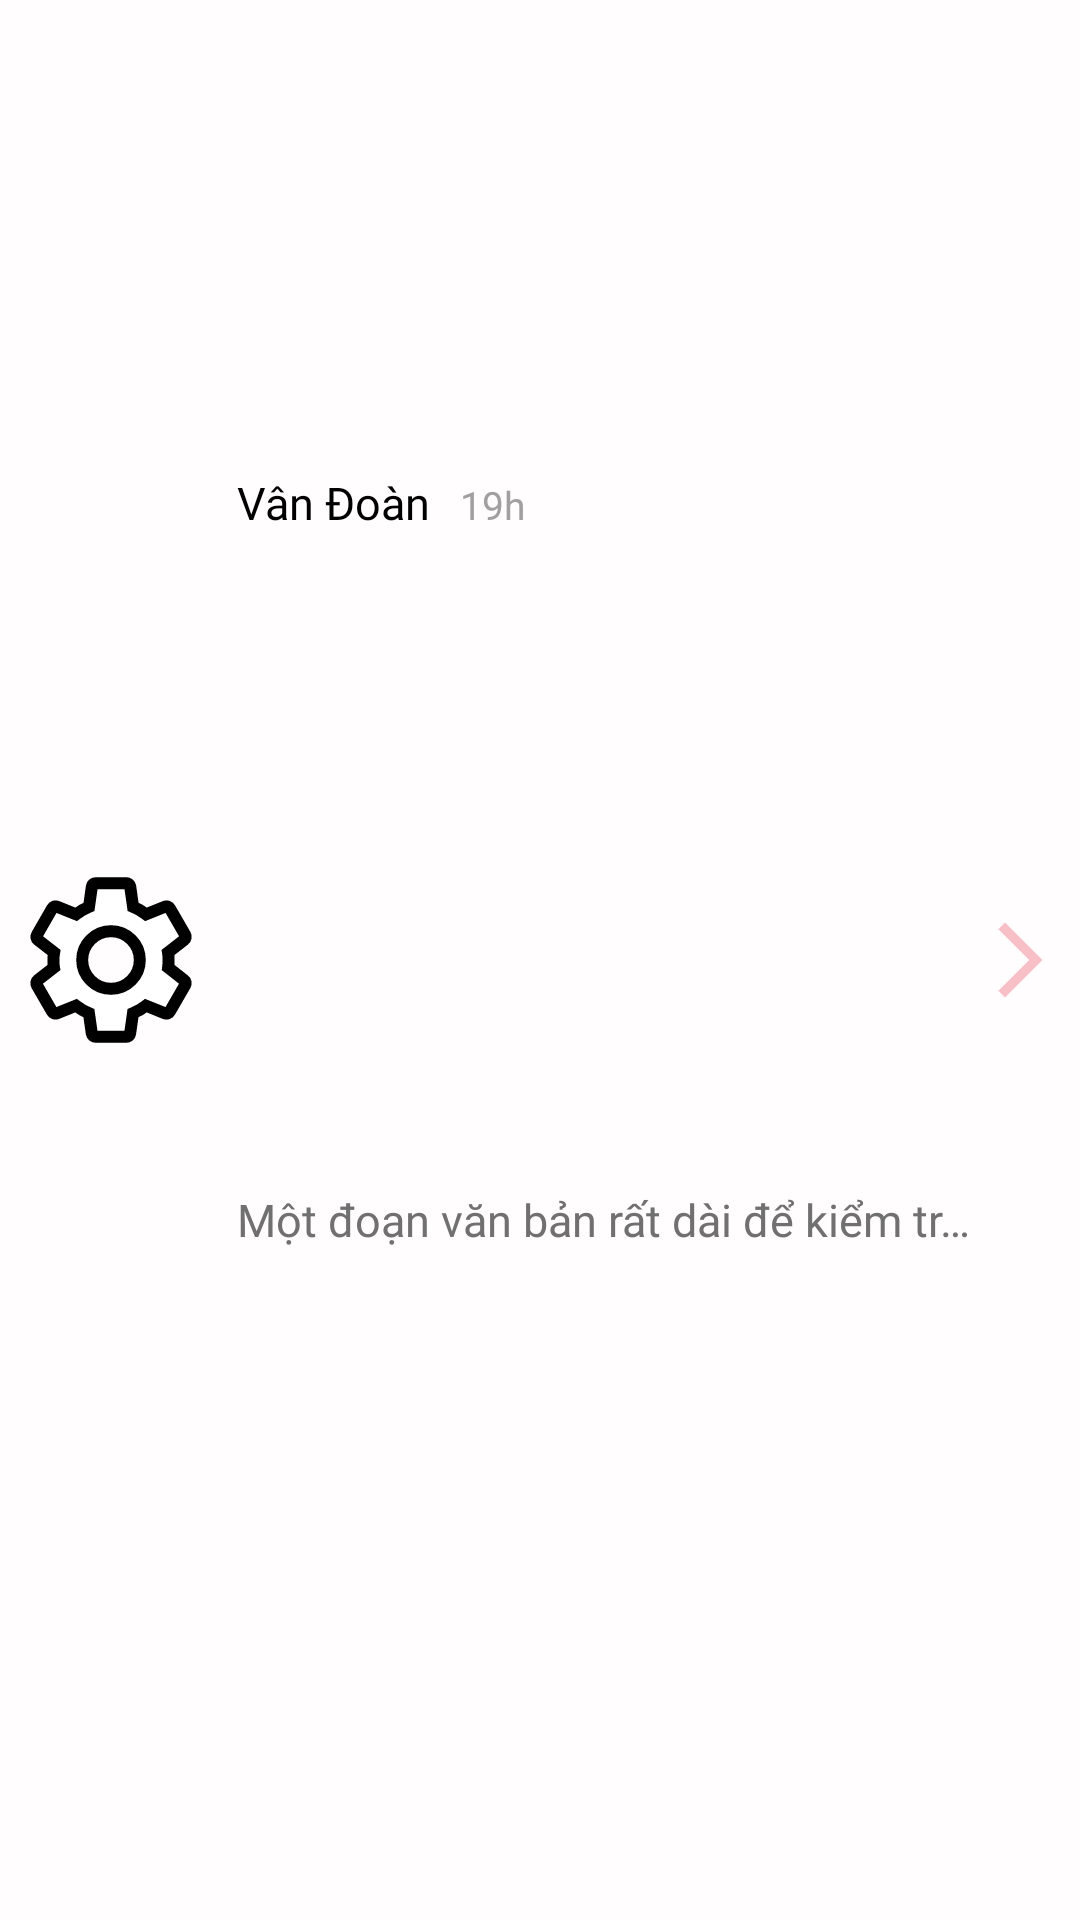

Locate icon controls on the screen. Image size 1080px×1920px, boxes as bbox(x1, y1, x2, y2).
no tail arrow: bbox(999, 923, 1042, 997)
setting: bbox(30, 877, 192, 1043)
